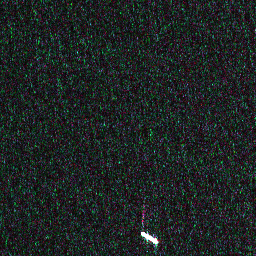ship: (138, 228, 161, 247)
